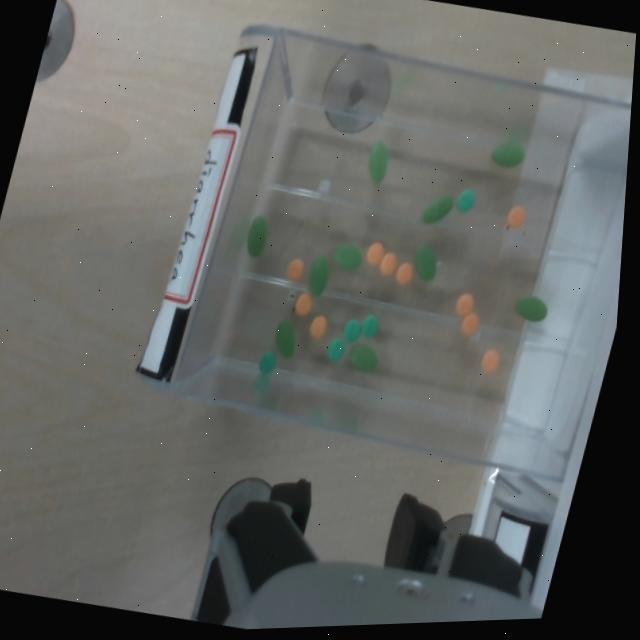famodine: (455, 186, 478, 212), (359, 311, 381, 338), (342, 315, 363, 341), (325, 337, 347, 361), (257, 349, 278, 372), (456, 188, 475, 211), (360, 313, 378, 337), (326, 336, 344, 360), (258, 349, 276, 373), (342, 318, 360, 341)
otillen_tab: (361, 139, 394, 185), (268, 316, 302, 358), (241, 213, 272, 258), (418, 191, 455, 227), (303, 253, 333, 297), (488, 137, 529, 169), (511, 291, 552, 323), (344, 341, 381, 373), (329, 240, 366, 271), (491, 139, 524, 166), (421, 195, 453, 222), (515, 294, 547, 321), (368, 140, 388, 183), (413, 243, 436, 280), (246, 214, 266, 256), (332, 242, 362, 269), (347, 343, 377, 370), (308, 255, 328, 295), (275, 319, 295, 357)
samsung_octylonium_tab: (393, 260, 417, 285), (453, 289, 476, 315), (458, 310, 481, 336), (479, 347, 502, 372), (363, 239, 386, 263), (378, 250, 400, 275), (292, 291, 314, 315), (307, 314, 329, 338), (284, 257, 306, 280), (506, 204, 527, 227), (454, 291, 473, 316), (364, 241, 384, 264), (378, 251, 397, 275), (506, 204, 525, 227), (460, 311, 478, 335), (294, 291, 312, 315), (308, 314, 326, 338), (395, 261, 413, 284), (481, 348, 499, 371), (286, 257, 303, 280)
